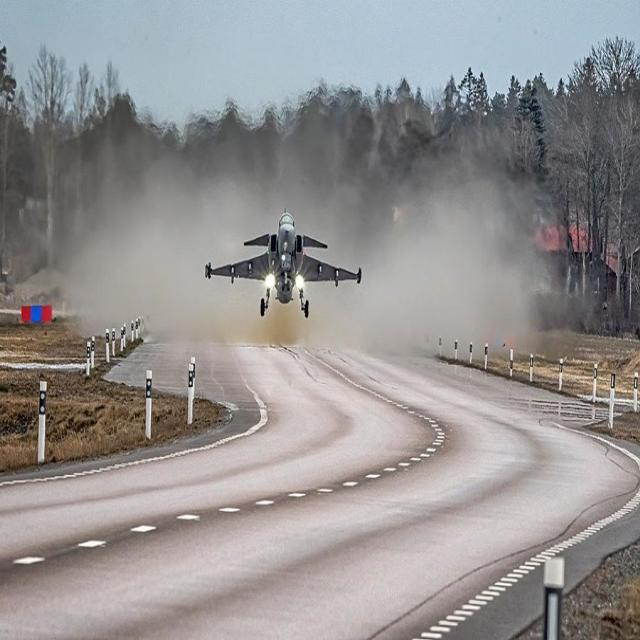MIL_Plane: (205, 206, 362, 318)
